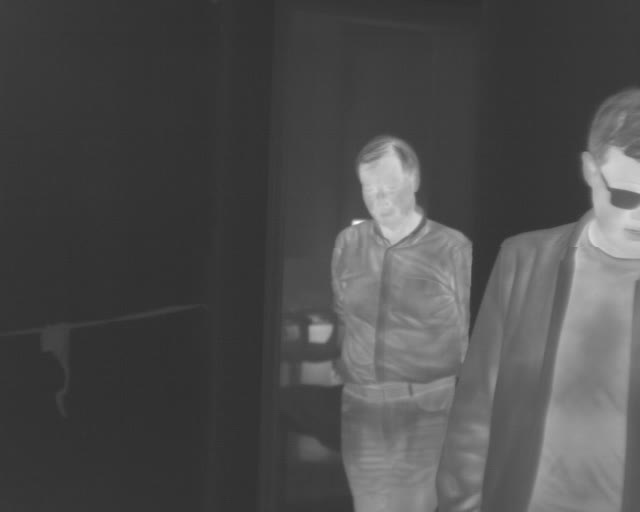face: (356, 133, 422, 229)
